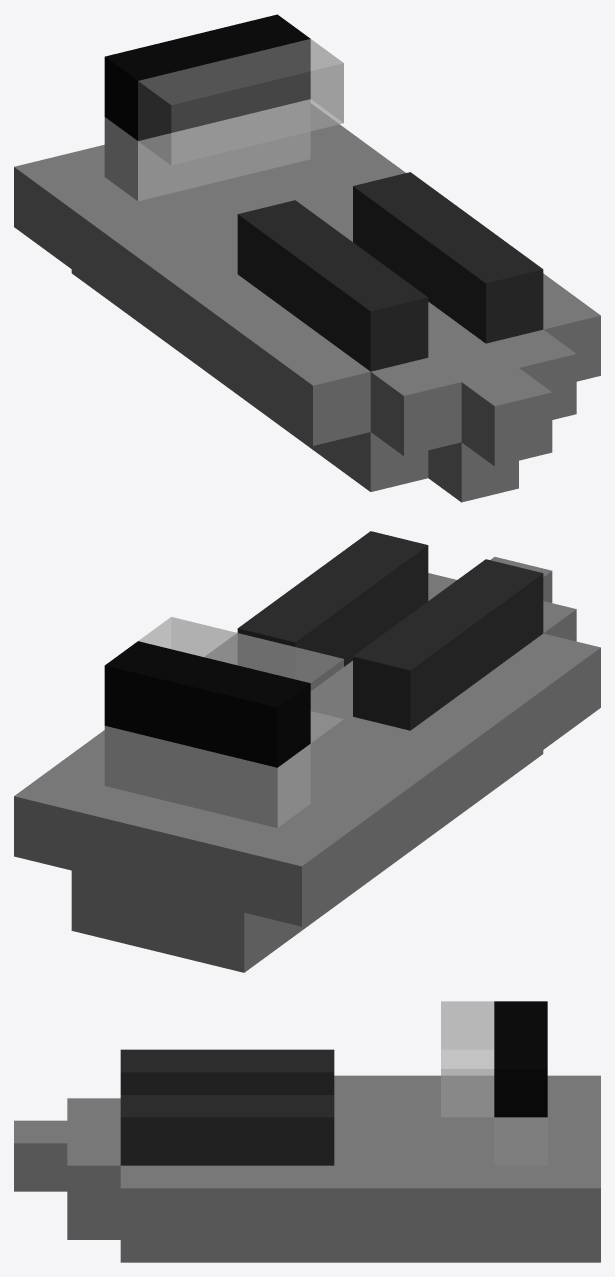
File: ship.glb
3 renders of one model, top to bottom at view 1: azimuth 30°, elevation 25°; view 2: azimuth 150°, elevation 25°; view 3: azimuth 270°, elevation 25°, orthographic. The views are drawn at different scales.
Parts seen in each view (by area): view 1: mesh, transparent; view 2: mesh, transparent; view 3: mesh, transparent.
Boxes of the visible parts, <box> form: mesh: <box>14,14,600,502</box>; transparent: <box>138,39,343,165</box>; mesh: <box>14,531,600,972</box>; transparent: <box>138,617,343,742</box>; mesh: <box>14,1001,600,1262</box>; transparent: <box>441,1001,494,1117</box>.
Bounding box in the file's own units: 0.5 × 0.4 × 1.1.
Materials: 2 (2 with a texture image).
